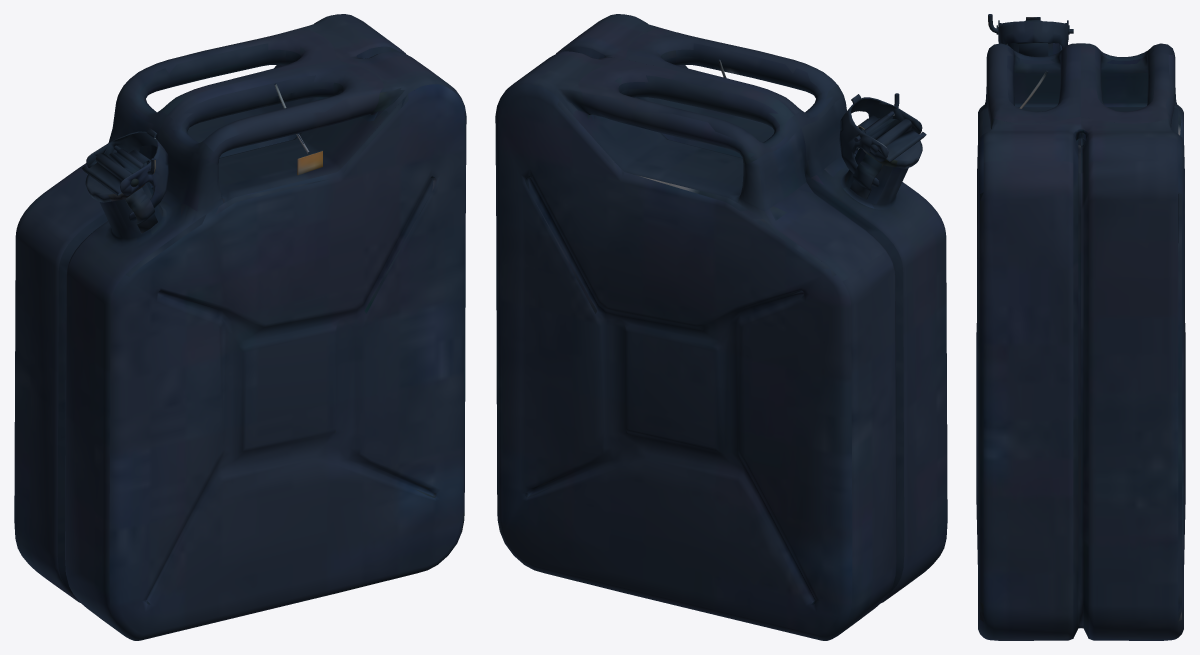
Rendered from water_canister.glb.
3 views of the same model, side by side, from view 1: azimuth 30°, elevation 25°; view 2: azimuth 150°, elevation 25°; view 3: azimuth 270°, elevation 25° (orthographic). The views are drawn at different scales.
Visible parts, largest first — view 1: water_canister; view 2: water_canister; view 3: water_canister.
Part boxes in pixels (x1,y1,x2,y2): water_canister: (14, 14, 466, 640); water_canister: (495, 14, 947, 640); water_canister: (976, 14, 1185, 640).
Bounding box in the file's own units: 0.385 × 0.5053 × 0.1888.
Materials: 1 (1 with a texture image).
